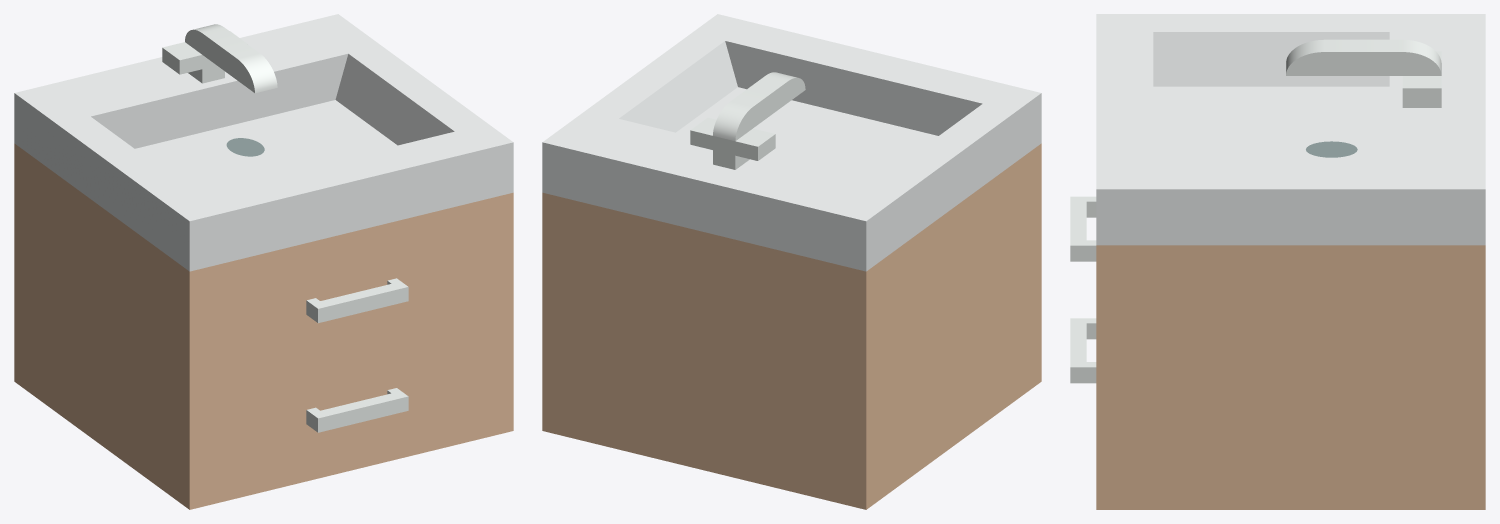
File: kn-bathroom-cabinet-drawer.glb
3 views of the same model, side by side, from view 1: azimuth 30°, elevation 25°; view 2: azimuth 150°, elevation 25°; view 3: azimuth 270°, elevation 25° (orthographic). The views are drawn at different scales.
Parts seen in each view (by area): view 1: bathroomCabinetDrawer(Clone); view 2: bathroomCabinetDrawer(Clone); view 3: bathroomCabinetDrawer(Clone).
Part boxes in pixels (<box>): bathroomCabinetDrawer(Clone): <box>14,14,513,509</box>; bathroomCabinetDrawer(Clone): <box>542,14,1041,509</box>; bathroomCabinetDrawer(Clone): <box>1070,14,1485,509</box>.
Bounding box in the file's own units: 1 × 1 × 1.
